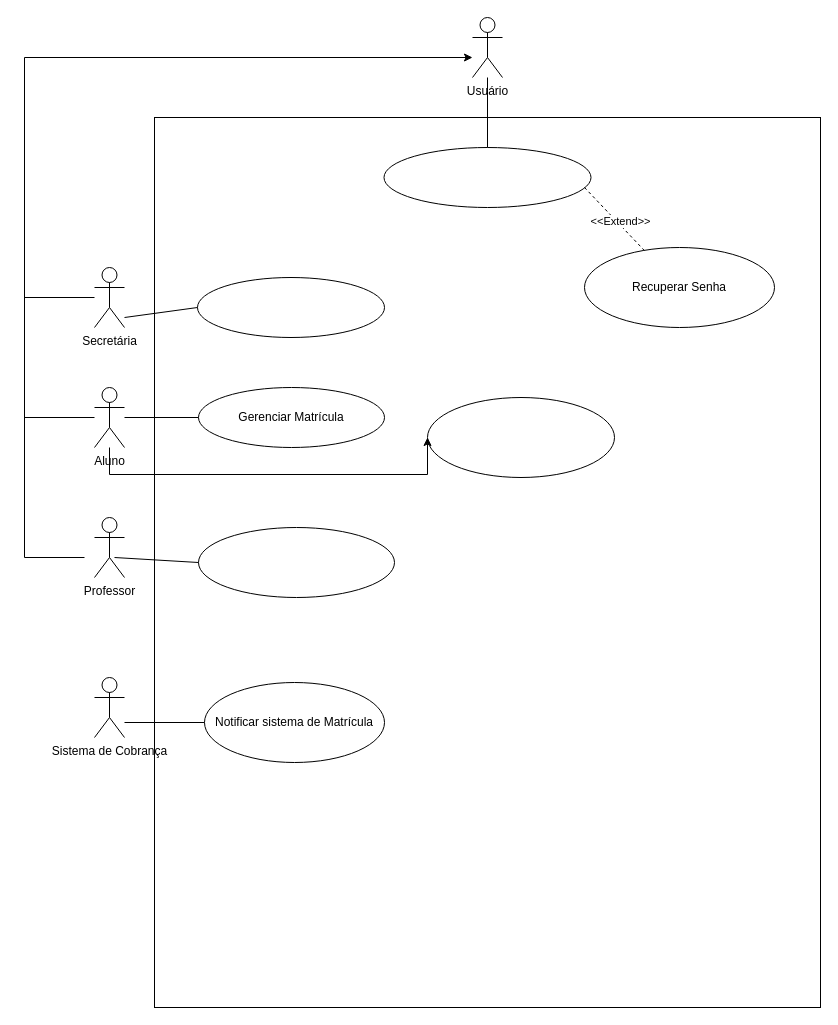
Image size: 838x1025. Some labels were removed from this diagram. The shapes that lost their labels are listed below. From the top down, each one's centre as x and y in pixels, then its label:
the point at 487,177: Autenticar
the point at 290,307: Gerar Currículo
the point at 520,437: Ver Histórico
the point at 296,562: Consultar Alunos
